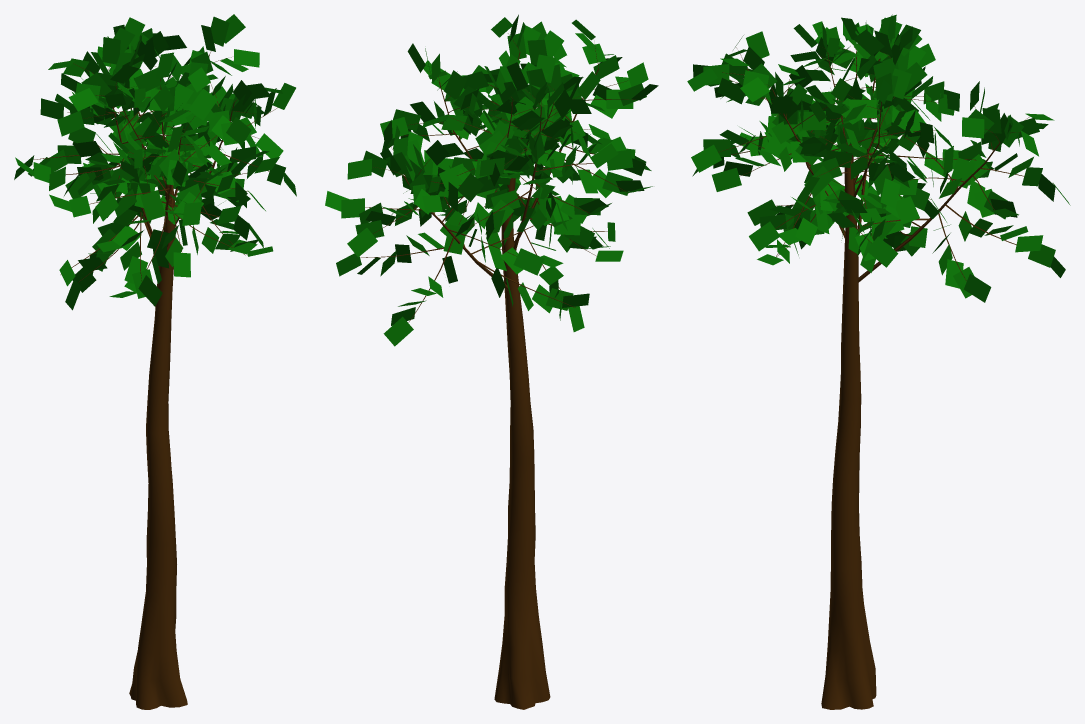
File: Tall Tree 2.FBX
The picture shows the model from 3 angles, left to right: view 1: azimuth 30°, elevation 25°; view 2: azimuth 150°, elevation 25°; view 3: azimuth 270°, elevation 25°; orthographic projection. The views are drawn at different scales.
Visible parts, largest first — view 1: Foliage001; view 2: Foliage001; view 3: Foliage001.
Part boxes in pixels (box(x1,y1,x2,y2)): Foliage001: box(14, 14, 296, 709); Foliage001: box(325, 14, 658, 709); Foliage001: box(687, 14, 1070, 709).
Bounding box in the file's own units: 285 × 744 × 382.
